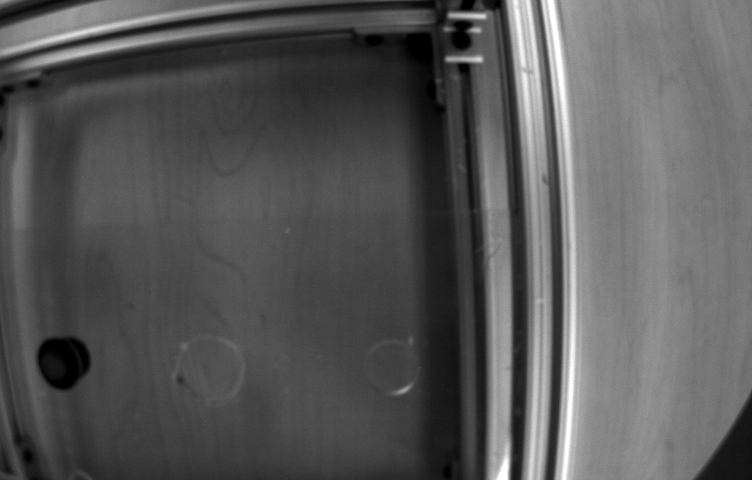small_red_button: (38, 320, 82, 396)
